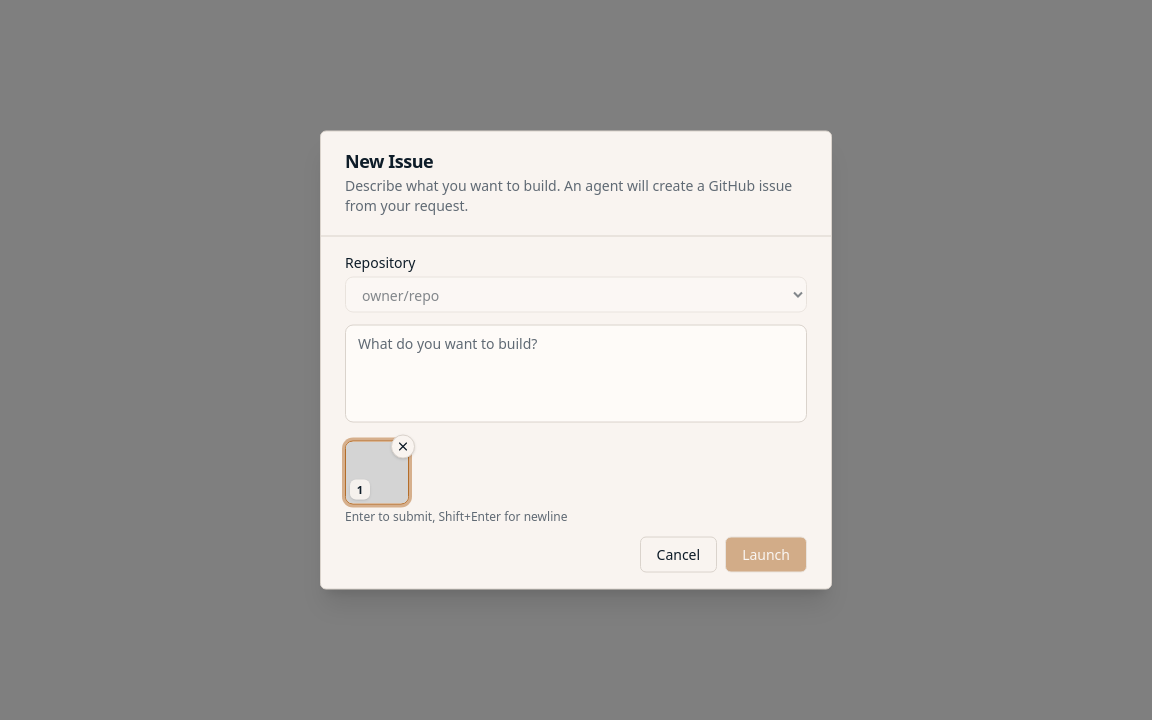
NewIssueDialog screenshots › opens the preview from mouse and keyboard activation and closes it with Escape
Click the button named "Preview screenshot 1" at point(377, 472), box [345,440,409,504]
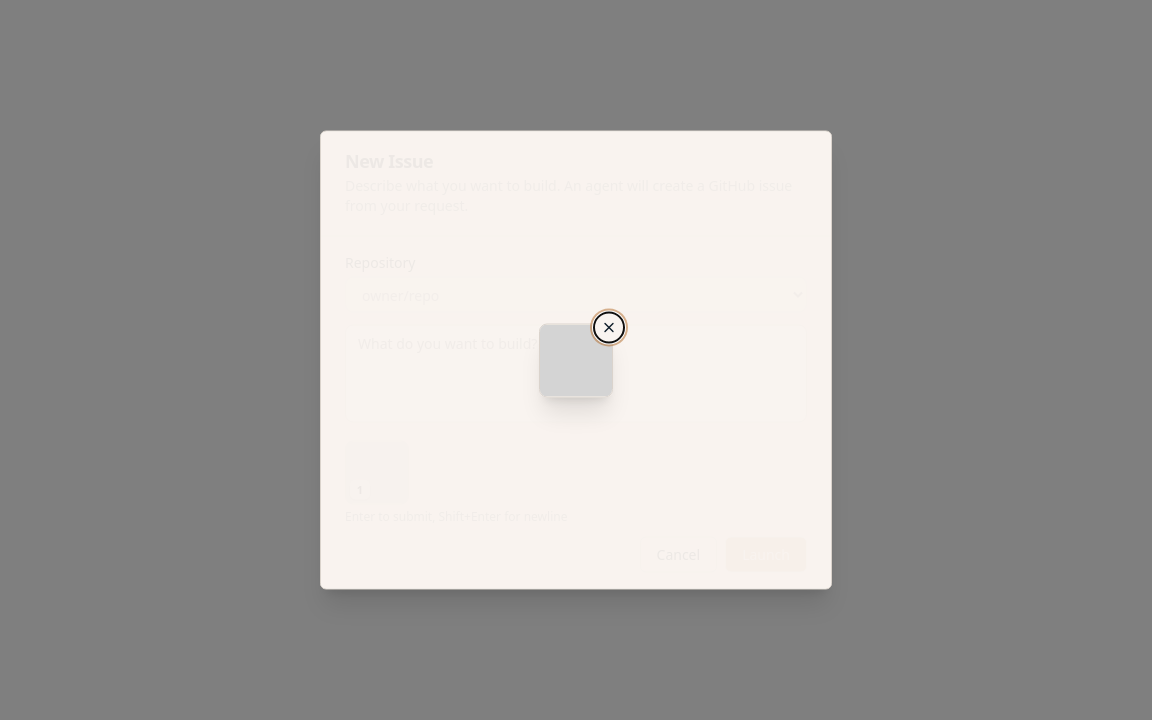
Press Tab in the dialog named "Screenshot preview", box [321,132,831,588]
Press Escape in the dialog named "Screenshot preview", box [321,132,831,588]
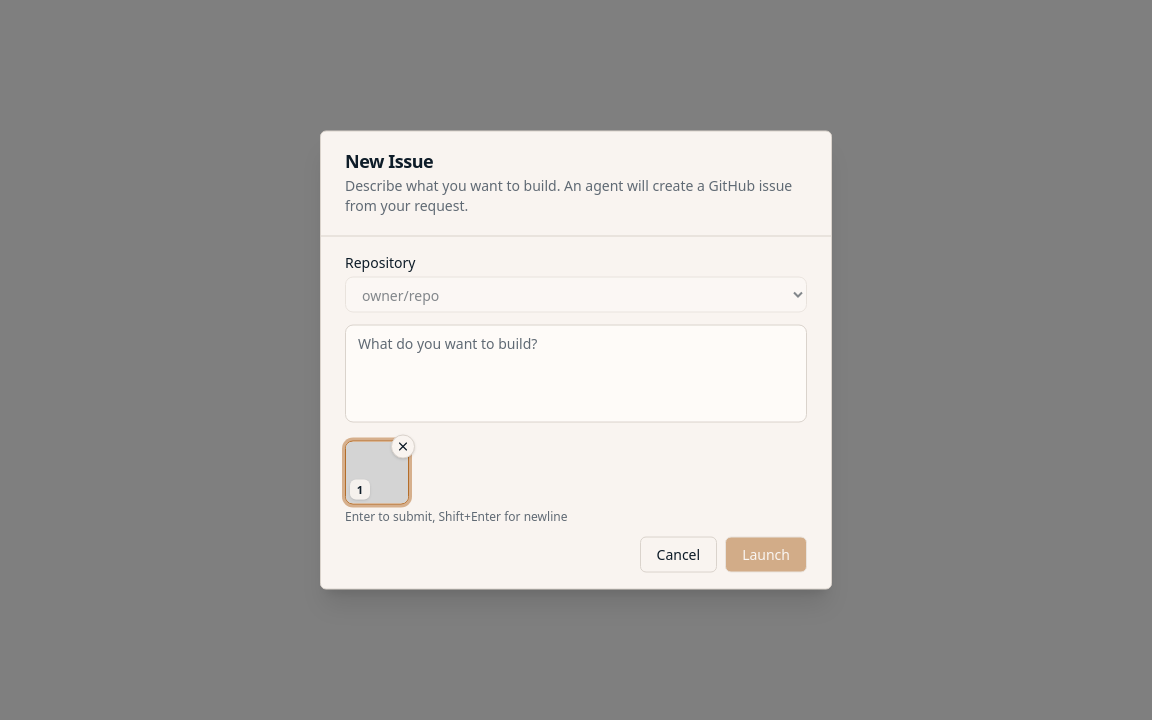
Press Enter in the button named "Preview screenshot 1", box [345,440,409,504]
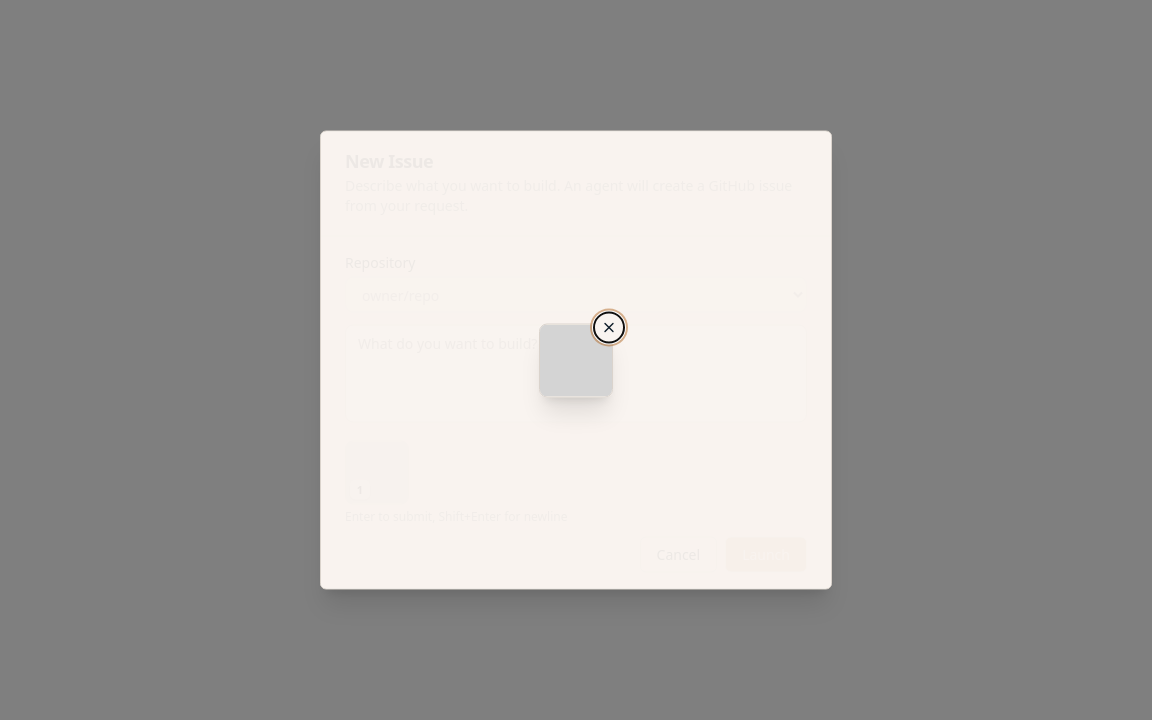
Expected: the dialog named "Screenshot preview" is shown, [321,132,831,588]
